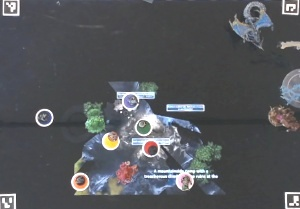blue: (33, 107, 53, 129)
green: (133, 119, 153, 136)
orange: (68, 171, 90, 189)
pink: (175, 170, 193, 191)
red: (141, 138, 161, 157)
violet: (120, 92, 139, 111)
yellow: (101, 129, 121, 151)
